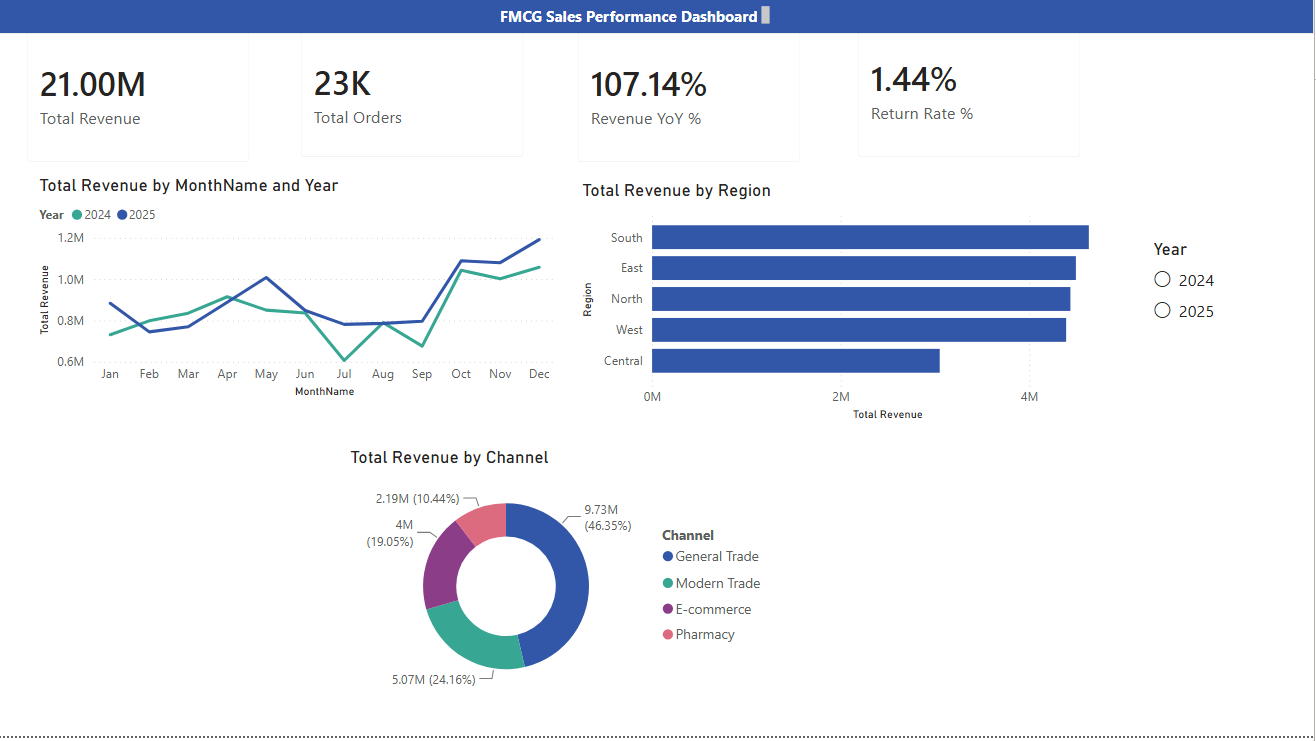

Layout of this report page (visuals, bound fields, positions):
{"tool":"powerbi","page":{"name":"Executive Overview","canvas":[1280,720],"ordinal":0},"visuals":[{"type":"cardVisual","fields":{"Data":["_Measures.Return Rate %"]},"box":[819,4.9,251.9,169.2],"z":0},{"type":"cardVisual","fields":{"Data":["_Measures.Total Revenue"]},"box":[10.7,9.7,251.9,169.2],"z":1},{"type":"cardVisual","fields":{"Data":["_Measures.Total Orders"]},"box":[277.2,13.6,251.9,160.5],"z":2},{"type":"cardVisual","fields":{"Data":["_Measures.Revenue YoY %"]},"box":[546.6,9.7,251.9,169.2],"z":3},{"type":"lineChart","fields":{"Category":["DateTable.MonthName"],"Series":["DateTable.Year"],"Y":["_Measures.Total Revenue"]},"box":[35,174.3,511.5,220.7],"z":4},{"type":"clusteredBarChart","fields":{"Category":["Sales_Transactions.Region"],"Y":["_Measures.Total Revenue"]},"box":[563.2,179,545.7,238.3],"z":5},{"type":"donutChart","fields":{"Category":["Sales_Transactions.Channel"],"Y":["_Measures.Total Revenue"]},"box":[337.5,438.7,418.2,251.9],"z":6},{"type":"listSlicer","fields":{"Values":["DateTable.Year"]},"box":[1118.5,236.4,80.7,107],"z":7},{"type":"shape","box":[0,0,1280,37],"z":8},{"type":"textbox","box":[479.5,4.9,276.2,28.2],"z":9}]}

Visuals, with their boxes in screenshot pixels (x1, y1, x2, y2), scaled from the page's 1280x720 canvas onto the 1316x741 screenshot:
cardVisual - _Measures.Return Rate %: bbox(842, 5, 1101, 179)
cardVisual - _Measures.Total Revenue: bbox(11, 10, 270, 184)
cardVisual - _Measures.Total Orders: bbox(285, 14, 544, 179)
cardVisual - _Measures.Revenue YoY %: bbox(562, 10, 821, 184)
lineChart - DateTable.MonthName x DateTable.Year: bbox(36, 179, 562, 407)
clusteredBarChart - Sales_Transactions.Region x _Measures.Total Revenue: bbox(579, 184, 1140, 429)
donutChart - Sales_Transactions.Channel x _Measures.Total Revenue: bbox(347, 451, 777, 711)
listSlicer - DateTable.Year: bbox(1150, 243, 1233, 353)
shape: bbox(0, 0, 1315, 38)
textbox: bbox(493, 5, 777, 34)
